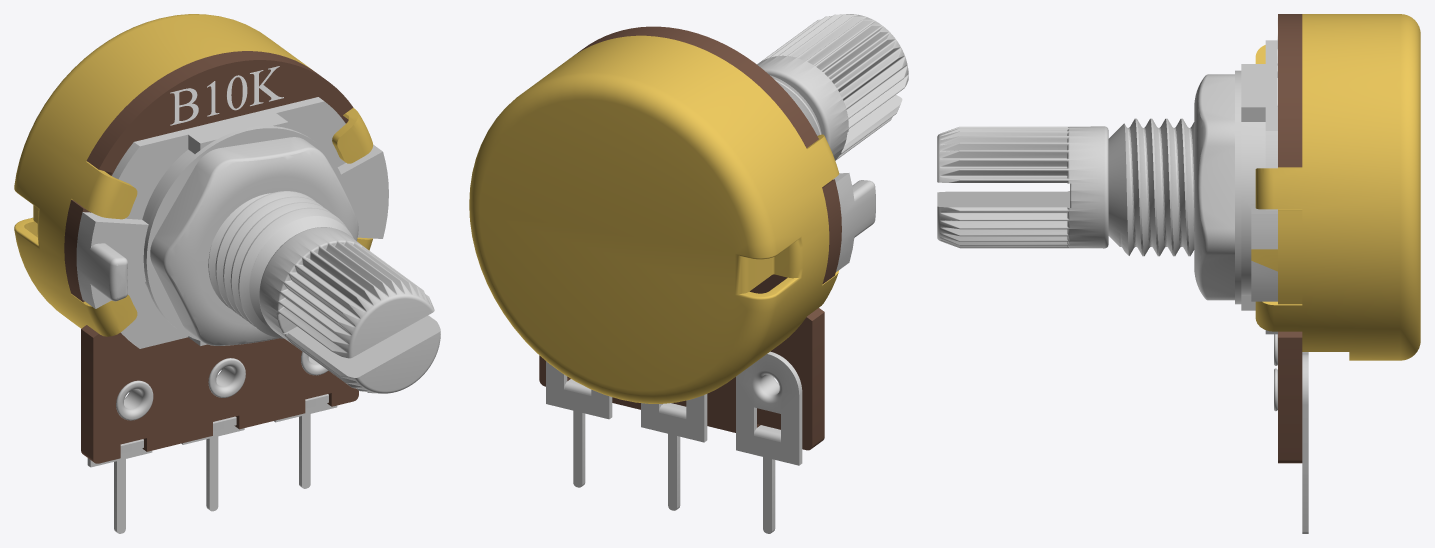
3 renders of one model, left to right at view 1: azimuth 30°, elevation 25°; view 2: azimuth 150°, elevation 25°; view 3: azimuth 270°, elevation 25°, orthographic. The views are drawn at different scales.
Visible parts, largest first — view 1: metal-material (×2), pcbmarrom-material, latao-material, Material-material; view 2: latao-material, metal-material, pcbmarrom-material; view 3: metal-material (×2), latao-material, pcbmarrom-material.
Part boxes in pixels (x1,y1,x2,y2): metal-material (×2): (76,97,440,533); pcbmarrom-material: (64,51,358,463); latao-material: (14,14,373,336); Material-material: (170,66,283,125); latao-material: (469,35,839,403); metal-material: (546,14,908,533); pcbmarrom-material: (539,26,841,450); metal-material (×2): (937,40,1308,533); latao-material: (1251,14,1420,360); pcbmarrom-material: (1278,14,1302,463).
Size of the model in its own units: 0.0162 by 0.0236 by 0.0226.
